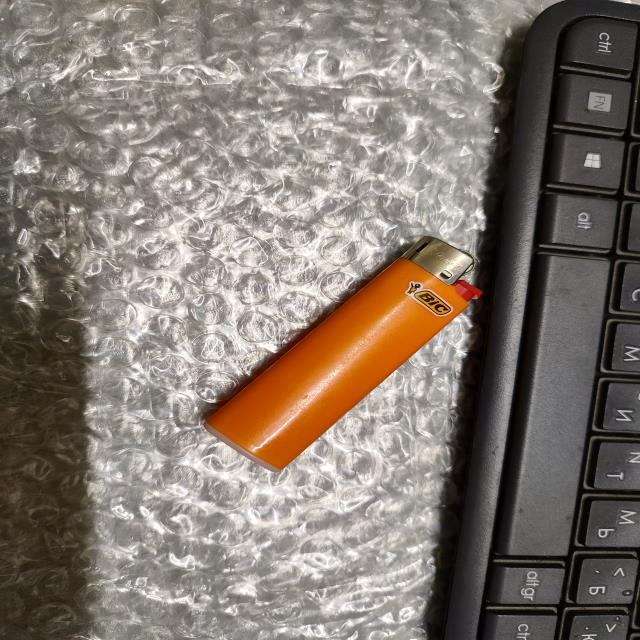lighter: (205, 238, 480, 469)
